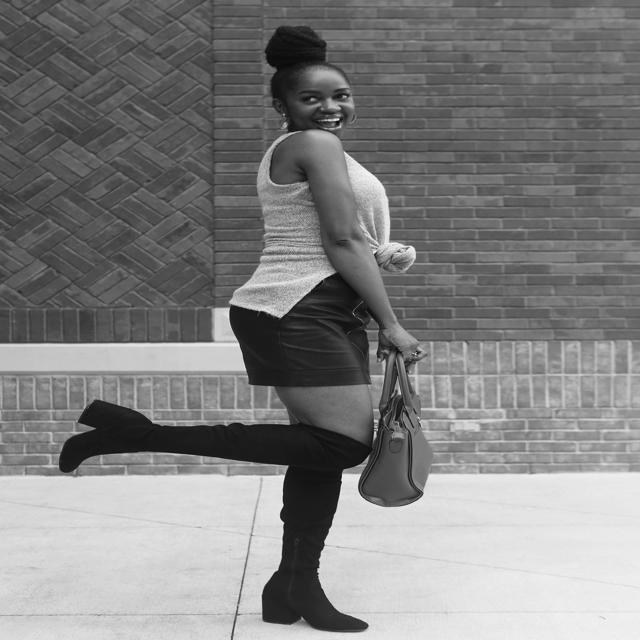Happiness: (292, 64, 354, 136)
